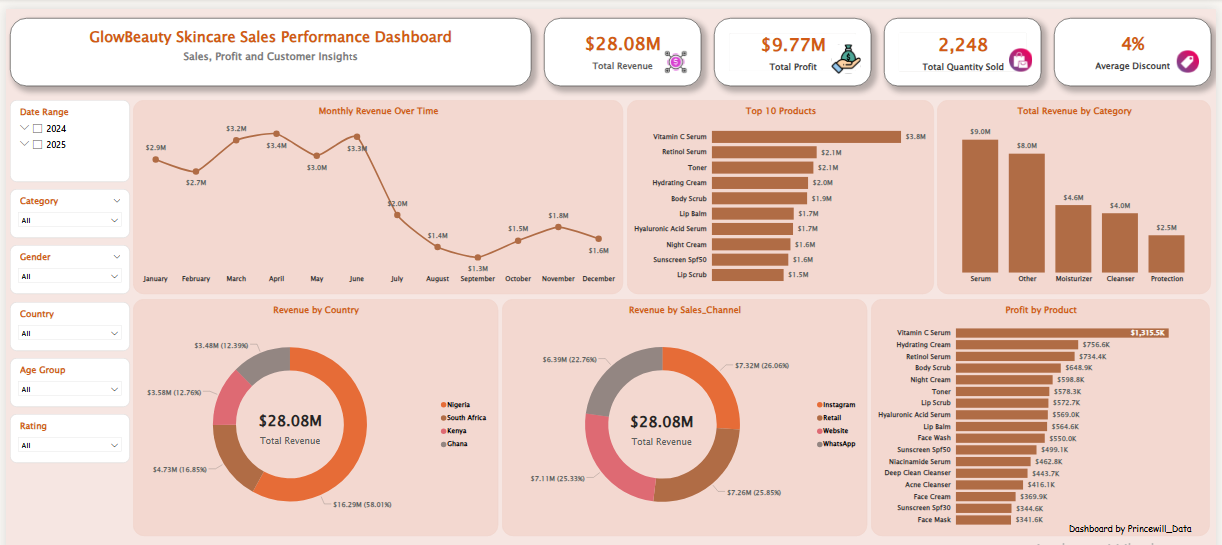

Layout of this report page (visuals, bound fields, positions):
{"tool":"powerbi","page":{"name":"Executive Dashboard","canvas":[2200,994],"ordinal":1},"visuals":[{"type":"textbox","box":[8,16,948,124],"z":0},{"type":"cardVisual","fields":{"Data":["Clean_Skincare_Data.Total Revenue"]},"box":[979,16,286,124],"z":1000},{"type":"cardVisual","fields":{"Data":["Clean_Skincare_Data.Total Profit"]},"box":[1288,16,286,124],"z":2000},{"type":"cardVisual","fields":{"Data":["Clean_Skincare_Data.Total Quantity Sold"]},"box":[1597,16,286,124],"z":3000},{"type":"cardVisual","fields":{"Data":["Clean_Skincare_Data.Average Discount"]},"box":[1906,16,286,124],"z":4000},{"type":"slicer","fields":{"Values":["Clean_Skincare_Data.Order_Date.Variation.Date Hierarchy.Year","Clean_Skincare_Data.Order_Date.Variation.Date Hierarchy.Month"]},"box":[7.3,165.5,218.2,149.1],"z":5000},{"type":"slicer","fields":{"Values":["Clean_Skincare_Data.Category"]},"box":[7.3,327.6,218.2,89.1],"z":6000},{"type":"slicer","fields":{"Values":["Clean_Skincare_Data.Gender"]},"box":[7.3,429.1,218.2,89.1],"z":7000},{"type":"slicer","fields":{"Values":["Clean_Skincare_Data.Country"]},"box":[7.3,532,218.2,89.1],"z":8000},{"type":"slicer","fields":{"Values":["Clean_Skincare_Data.Age_Group"]},"box":[7.3,634.2,218.2,89.1],"z":9000},{"type":"slicer","fields":{"Values":["Clean_Skincare_Data.Rating"]},"box":[7.3,736.4,218.2,89.1],"z":10000},{"type":"lineChart","title":"Monthly Revenue Over Time","fields":{"Category":["Clean_Skincare_Data.Order_Date.Variation.Date Hierarchy.Month"],"Y":["Clean_Skincare_Data.Total Revenue"]},"box":[230.9,165.5,890.9,352.7],"z":11000},{"type":"clusteredColumnChart","fields":{"Category":["Clean_Skincare_Data.Category"],"Y":["Clean_Skincare_Data.Total Revenue"]},"box":[1692.7,165.5,498.2,352.7],"z":12000},{"type":"clusteredBarChart","title":"Top 10 Products","fields":{"Category":["Clean_Skincare_Data.Product_Name"],"Y":["Clean_Skincare_Data.Total Revenue"]},"box":[1128.2,165.5,558.2,352.7],"z":13000},{"type":"donutChart","title":"Revenue by Country","fields":{"Category":["Clean_Skincare_Data.Country"],"Y":["Clean_Skincare_Data.Total Revenue"]},"box":[230.9,527.3,663.6,430.9],"z":14000},{"type":"donutChart","title":"Revenue by Sales_Channel","fields":{"Category":["Clean_Skincare_Data.Sales_Channel"],"Y":["Clean_Skincare_Data.Total Revenue"]},"box":[901.8,527.3,663.6,430.9],"z":15000},{"type":"card","fields":{"Values":["Clean_Skincare_Data.Total Revenue"]},"box":[1087.3,678.2,209.1,170.9],"z":16000},{"type":"card","fields":{"Values":["Clean_Skincare_Data.Total Revenue"]},"box":[421.8,689.1,189.1,143.6],"z":17000},{"type":"clusteredBarChart","title":"Profit by Product","fields":{"Category":["Clean_Skincare_Data.Product_Name"],"Y":["Clean_Skincare_Data.Total Profit"]},"box":[1572.7,527.3,616.4,430.9],"z":18000},{"type":"actionButton","box":[1176.4,70.9,83.6,50.9],"z":19000},{"type":"actionButton","box":[1496.4,60,69.1,61.8],"z":20000},{"type":"actionButton","box":[1794.5,67.3,100,50.9],"z":21000},{"type":"actionButton","box":[2118.2,70.9,61.8,49.1],"z":22000},{"type":"textbox","box":[1887.3,927.3,312.7,38.2],"z":23000}]}

Visuals, with their boxes in screenshot pixels (x1, y1, x2, y2), scaled from the page's 2200x994 canvas onto the 1222x545 screenshot:
textbox: (left=4, top=9, right=531, bottom=77)
cardVisual - Clean_Skincare_Data.Total Revenue: (left=544, top=9, right=703, bottom=77)
cardVisual - Clean_Skincare_Data.Total Profit: (left=715, top=9, right=874, bottom=77)
cardVisual - Clean_Skincare_Data.Total Quantity Sold: (left=887, top=9, right=1046, bottom=77)
cardVisual - Clean_Skincare_Data.Average Discount: (left=1059, top=9, right=1218, bottom=77)
slicer - Clean_Skincare_Data.Order_Date.Variation.Date Hierarchy.Year x Clean_Skincare_Data.Order_Date.Variation.Date Hierarchy.Month: (left=4, top=91, right=125, bottom=172)
slicer - Clean_Skincare_Data.Category: (left=4, top=180, right=125, bottom=228)
slicer - Clean_Skincare_Data.Gender: (left=4, top=235, right=125, bottom=284)
slicer - Clean_Skincare_Data.Country: (left=4, top=292, right=125, bottom=341)
slicer - Clean_Skincare_Data.Age_Group: (left=4, top=348, right=125, bottom=397)
slicer - Clean_Skincare_Data.Rating: (left=4, top=404, right=125, bottom=453)
"Monthly Revenue Over Time" lineChart: (left=128, top=91, right=623, bottom=284)
clusteredColumnChart - Clean_Skincare_Data.Category x Clean_Skincare_Data.Total Revenue: (left=940, top=91, right=1217, bottom=284)
"Top 10 Products" clusteredBarChart: (left=627, top=91, right=937, bottom=284)
"Revenue by Country" donutChart: (left=128, top=289, right=497, bottom=525)
"Revenue by Sales_Channel" donutChart: (left=501, top=289, right=870, bottom=525)
card - Clean_Skincare_Data.Total Revenue: (left=604, top=372, right=720, bottom=466)
card - Clean_Skincare_Data.Total Revenue: (left=234, top=378, right=339, bottom=457)
"Profit by Product" clusteredBarChart: (left=874, top=289, right=1216, bottom=525)
actionButton: (left=653, top=39, right=700, bottom=67)
actionButton: (left=831, top=33, right=870, bottom=67)
actionButton: (left=997, top=37, right=1052, bottom=65)
actionButton: (left=1177, top=39, right=1211, bottom=66)
textbox: (left=1048, top=508, right=1221, bottom=529)
